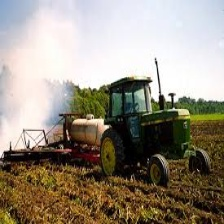smoke: (2, 22, 68, 142)
